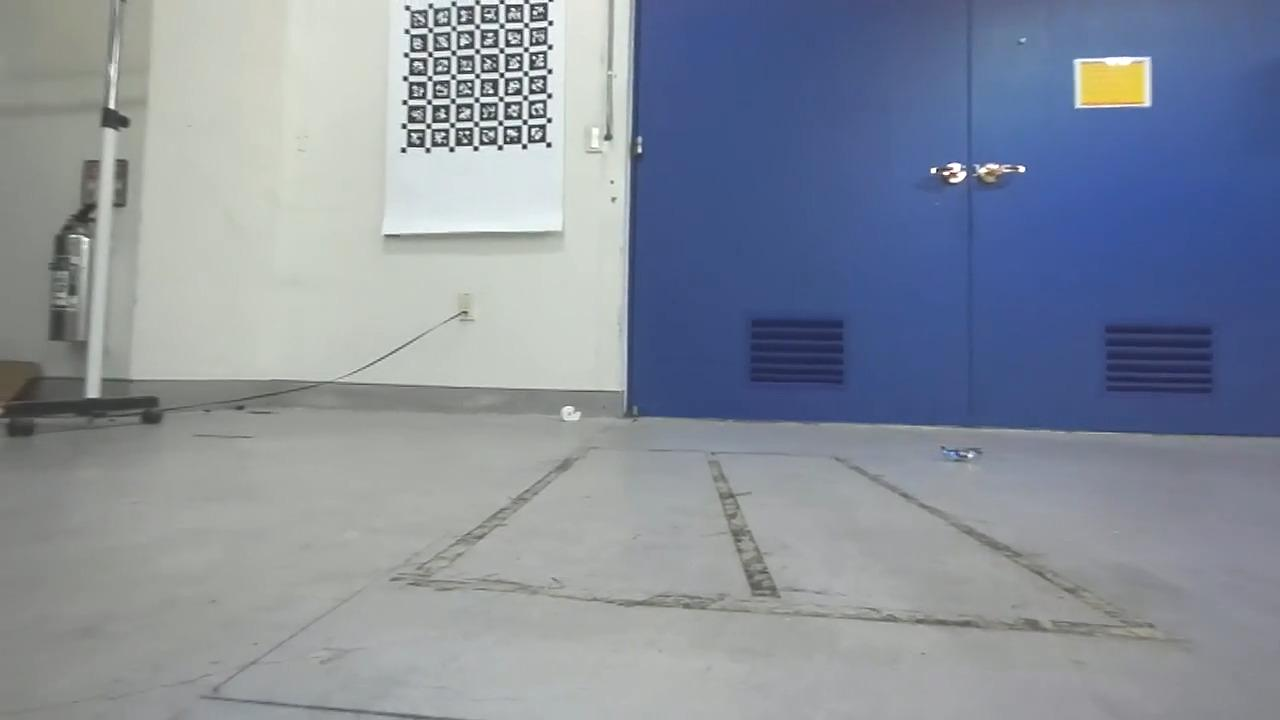crazyflie: (936, 441, 987, 466)
